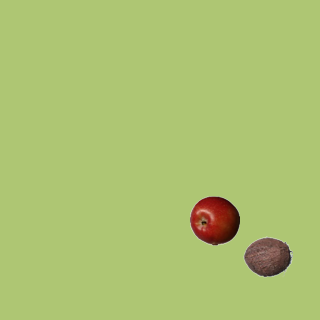Apple Braeburn: (189, 195, 239, 245)
Cocos: (242, 231, 292, 281)
